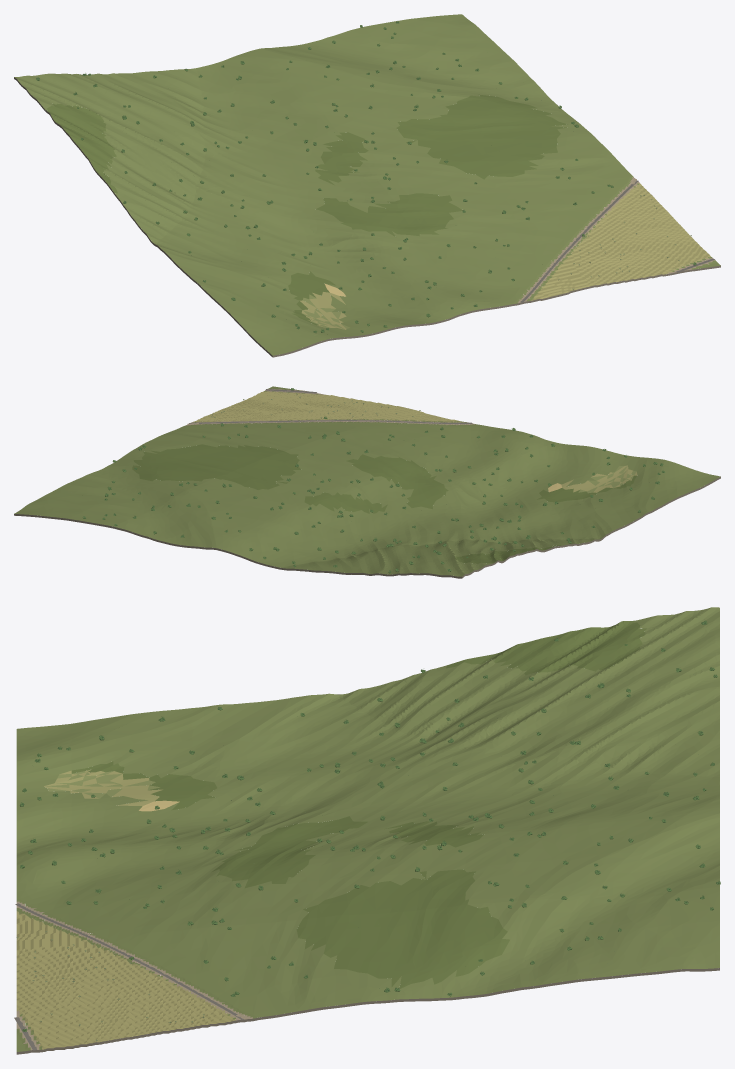
Rendered from parca_+9_-7-yakin.glb.
3 renders of one model, top to bottom at view 1: azimuth 30°, elevation 25°; view 2: azimuth 150°, elevation 25°; view 3: azimuth 270°, elevation 25°, orthographic. The views are drawn at different scales.
Visible parts, largest first — view 1: parca_+9_-7_arazi, parca_+9_-7_bitkiler, parca_+9_-7_yollar; view 2: parca_+9_-7_arazi, parca_+9_-7_bitkiler, parca_+9_-7_yollar; view 3: parca_+9_-7_arazi, parca_+9_-7_bitkiler, parca_+9_-7_yollar.
Boxes of the visible parts, x1,y1,x2,y2 form: parca_+9_-7_arazi: (14,14,720,357); parca_+9_-7_bitkiler: (36,21,696,334); parca_+9_-7_yollar: (520,179,714,302); parca_+9_-7_arazi: (14,386,720,578); parca_+9_-7_bitkiler: (83,388,664,573); parca_+9_-7_yollar: (188,389,472,424); parca_+9_-7_arazi: (16,607,719,1054); parca_+9_-7_bitkiler: (16,620,720,1041); parca_+9_-7_yollar: (14,903,248,1050).
Bounding box in the file's own units: 1003 × 236 × 1005.
